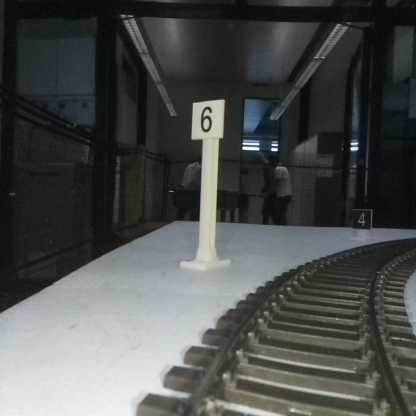black-stop-4: (352, 208, 372, 240)
white-info-6: (190, 100, 224, 267)
